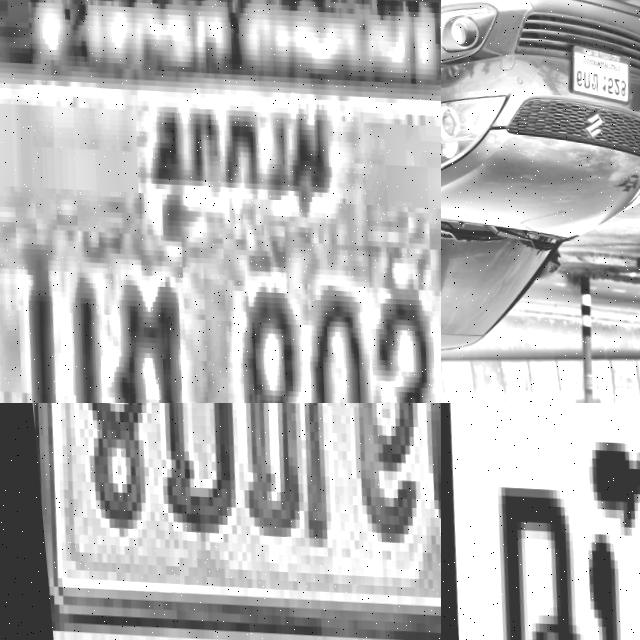license-plate: (0, 0, 441, 403), (0, 403, 441, 640), (441, 403, 640, 640), (565, 46, 632, 107)
